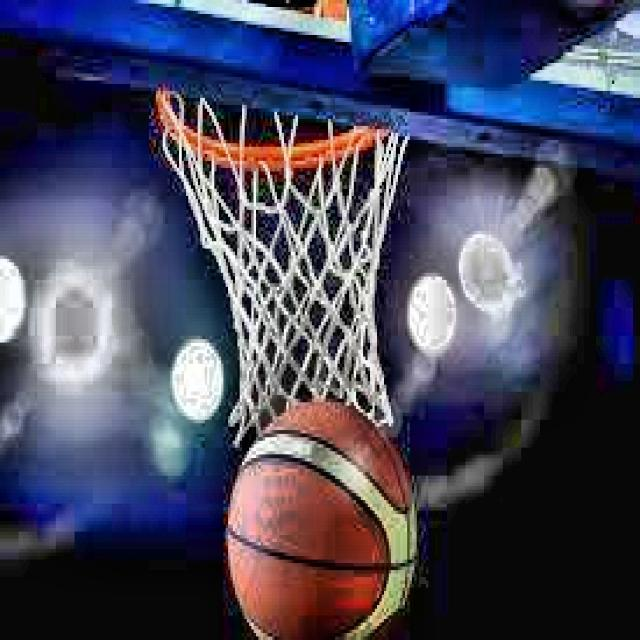board: (227, 398, 418, 640)
rim: (149, 82, 403, 422)
